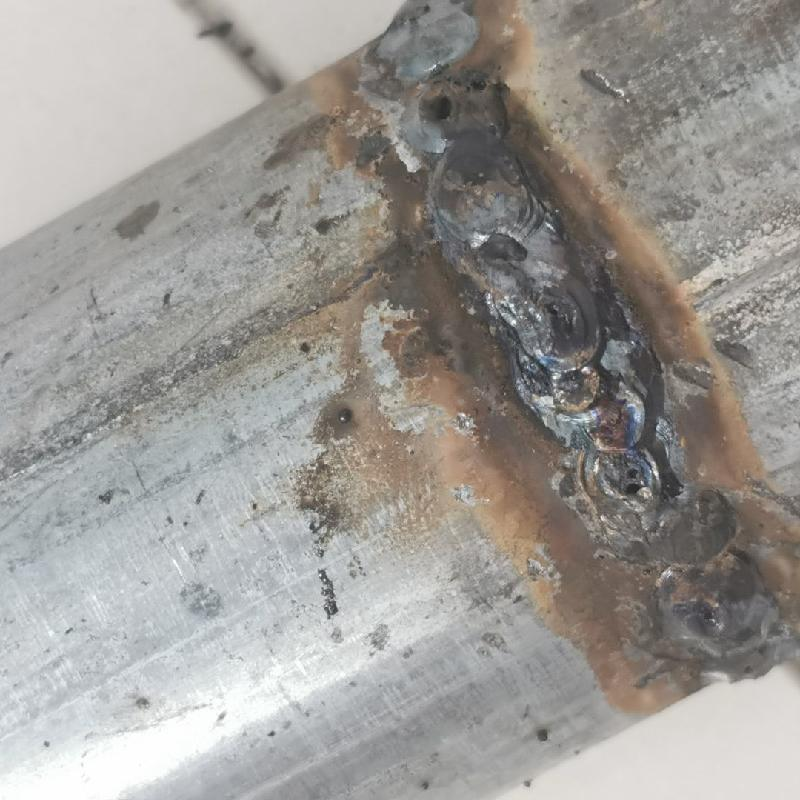Surface_pores: (413, 70, 488, 121), (610, 460, 655, 500), (696, 601, 725, 629)
crater: (475, 274, 671, 505)
wrong_size: (367, 2, 554, 268), (621, 511, 785, 689)
